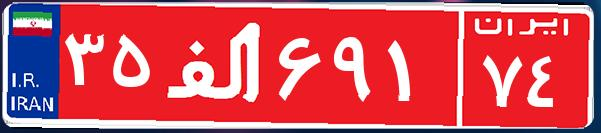1: (385, 28, 445, 110)
3: (57, 26, 110, 107)
4: (525, 38, 570, 115)
5: (110, 28, 158, 105)
6: (273, 28, 330, 110)
7: (475, 38, 525, 113)
9: (330, 28, 385, 110)
الف: (158, 15, 273, 115)
